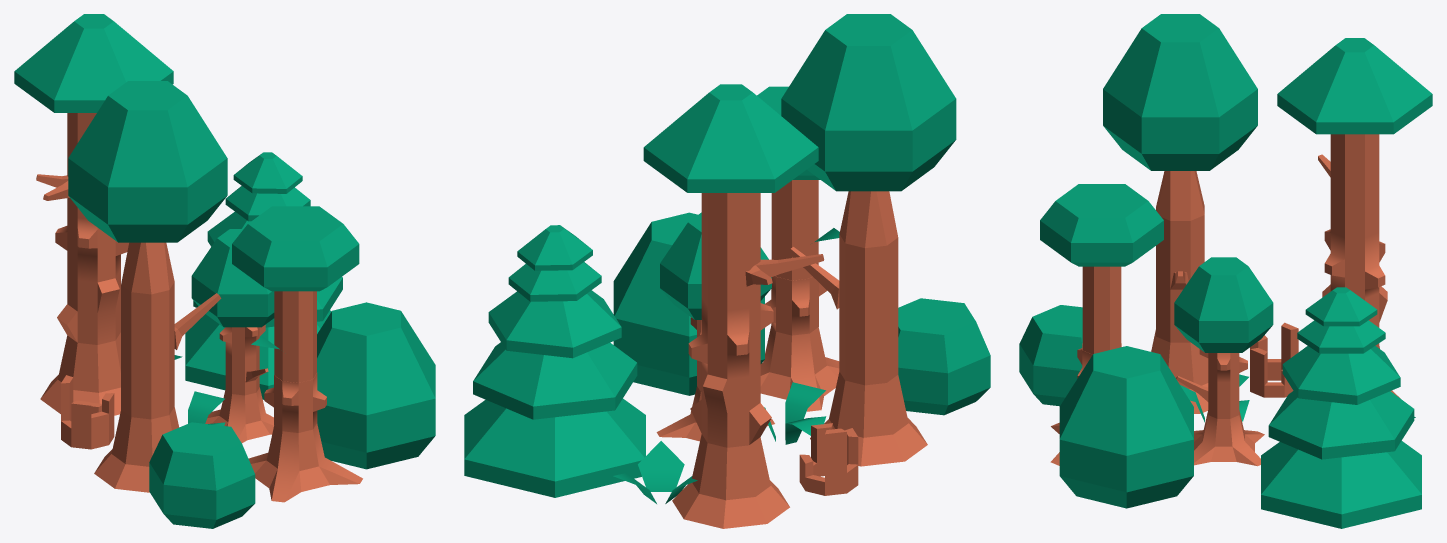
The model's file is Fores.fbx.
The picture shows the model from 3 angles, left to right: view 1: azimuth 30°, elevation 25°; view 2: azimuth 150°, elevation 25°; view 3: azimuth 270°, elevation 25°; orthographic projection. The views are drawn at different scales.
Visible parts, largest first — view 1: mergedBlocks; view 2: mergedBlocks; view 3: mergedBlocks.
Boxes of the visible parts, bbox=[...] form: mergedBlocks: bbox=[14, 14, 435, 528]; mergedBlocks: bbox=[464, 14, 990, 528]; mergedBlocks: bbox=[1019, 14, 1432, 528].
Size of the model in its own units: 28.93 by 30 by 30.76.
